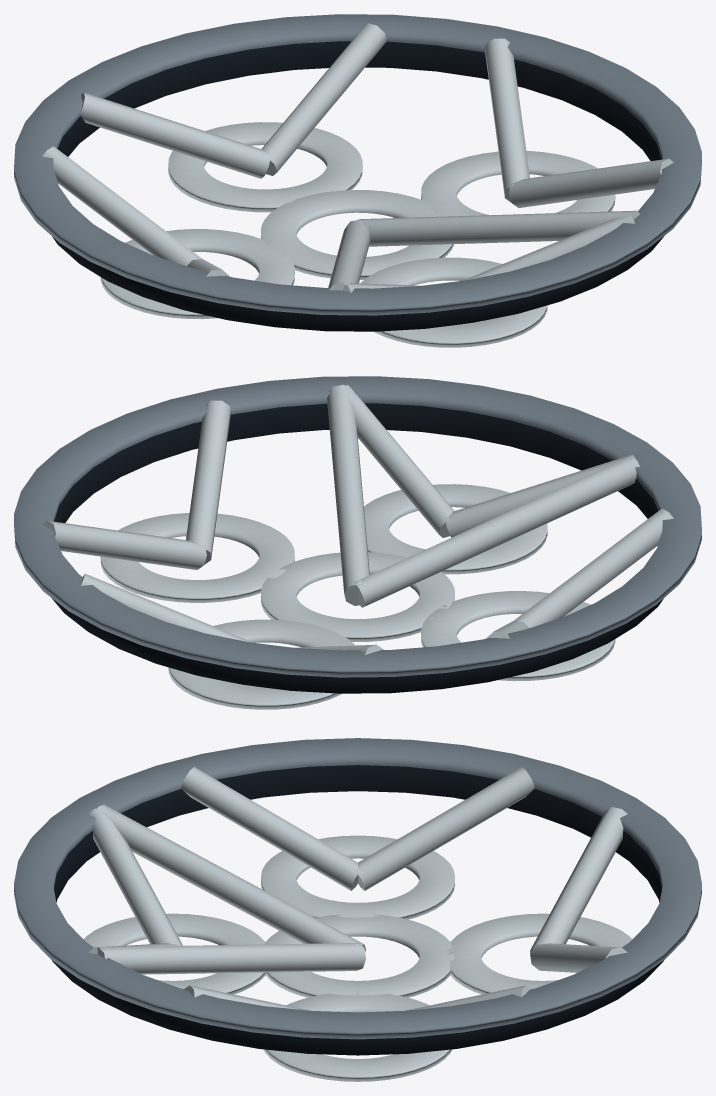
The model's file is s_ii_engine_frame.glb.
3 views of the same model, one above another, from view 1: azimuth 30°, elevation 25°; view 2: azimuth 150°, elevation 25°; view 3: azimuth 270°, elevation 25° (orthographic).
Parts seen in each view (by area): view 1: s_ii_engine_frame.mesh_Satin_aluminum, s_ii_engine_frame.mesh_Machined_steel, s_ii_engine_frame.mesh_Shadowed_interior; view 2: s_ii_engine_frame.mesh_Satin_aluminum, s_ii_engine_frame.mesh_Machined_steel, s_ii_engine_frame.mesh_Shadowed_interior; view 3: s_ii_engine_frame.mesh_Satin_aluminum, s_ii_engine_frame.mesh_Machined_steel, s_ii_engine_frame.mesh_Shadowed_interior.
Part boxes in pixels (box(x1,y1,x2,y2)): s_ii_engine_frame.mesh_Satin_aluminum: box(42, 23, 673, 347); s_ii_engine_frame.mesh_Machined_steel: box(14, 14, 701, 315); s_ii_engine_frame.mesh_Shadowed_interior: box(52, 41, 663, 331); s_ii_engine_frame.mesh_Satin_aluminum: box(42, 384, 673, 709); s_ii_engine_frame.mesh_Machined_steel: box(14, 376, 701, 677); s_ii_engine_frame.mesh_Shadowed_interior: box(52, 403, 663, 693); s_ii_engine_frame.mesh_Satin_aluminum: box(83, 767, 632, 1081); s_ii_engine_frame.mesh_Machined_steel: box(14, 738, 701, 1039); s_ii_engine_frame.mesh_Shadowed_interior: box(52, 765, 663, 1055).
Bounding box in the file's own units: 9.98 × 1.48 × 9.98.
